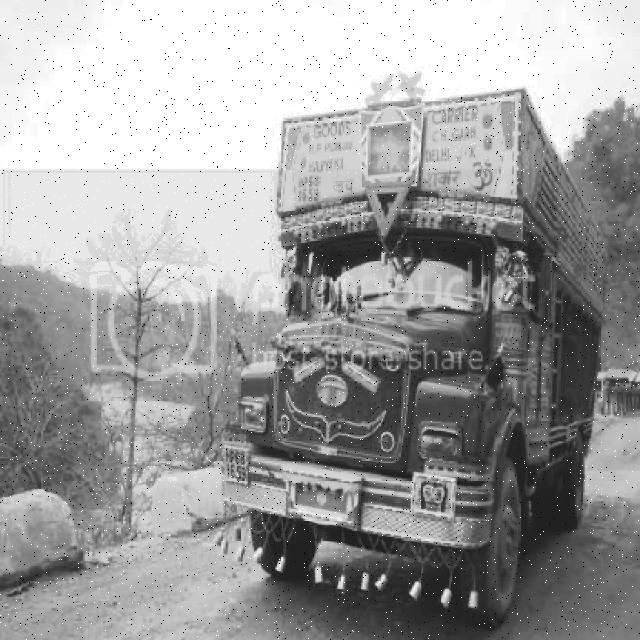HCV: (268, 108, 595, 617)
